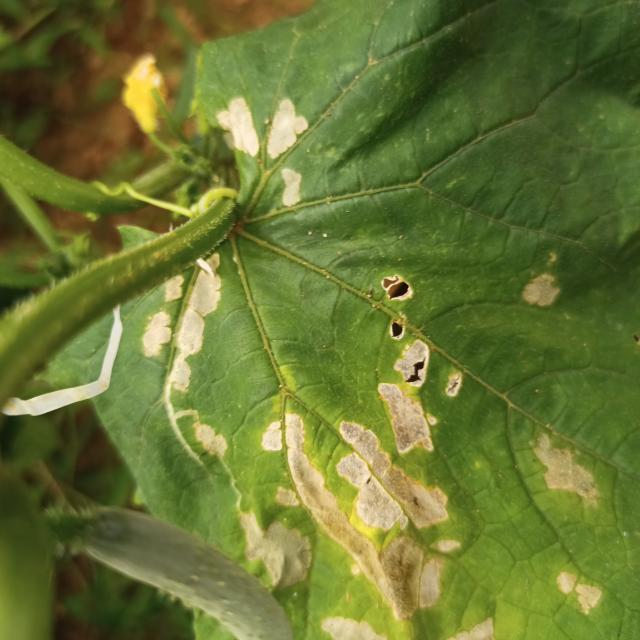disease_cucumber: (142, 243, 604, 640), (214, 93, 311, 210)
